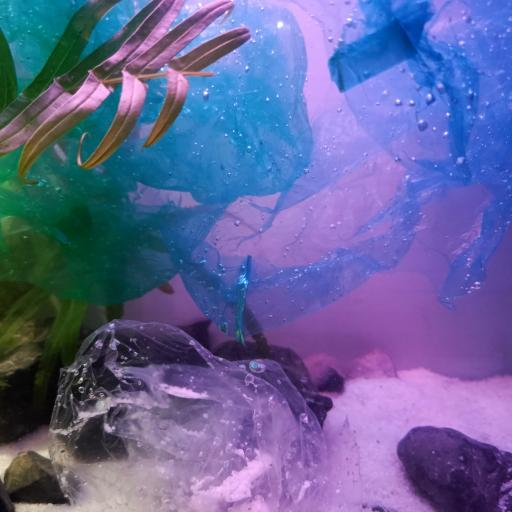plastic_bag: (181, 0, 512, 342), (0, 0, 313, 309), (47, 318, 366, 512)
